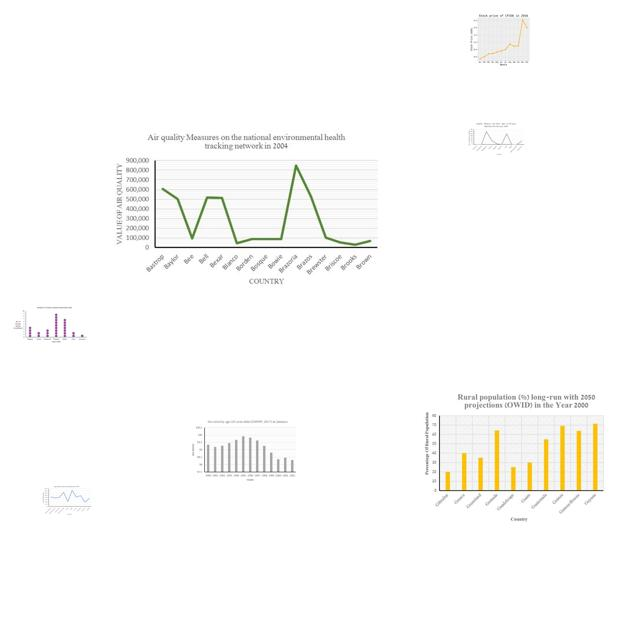Graph: (110, 130, 383, 288), (423, 393, 607, 524), (189, 419, 298, 483), (465, 11, 540, 67), (13, 306, 87, 343), (467, 122, 525, 156), (41, 485, 92, 515)
